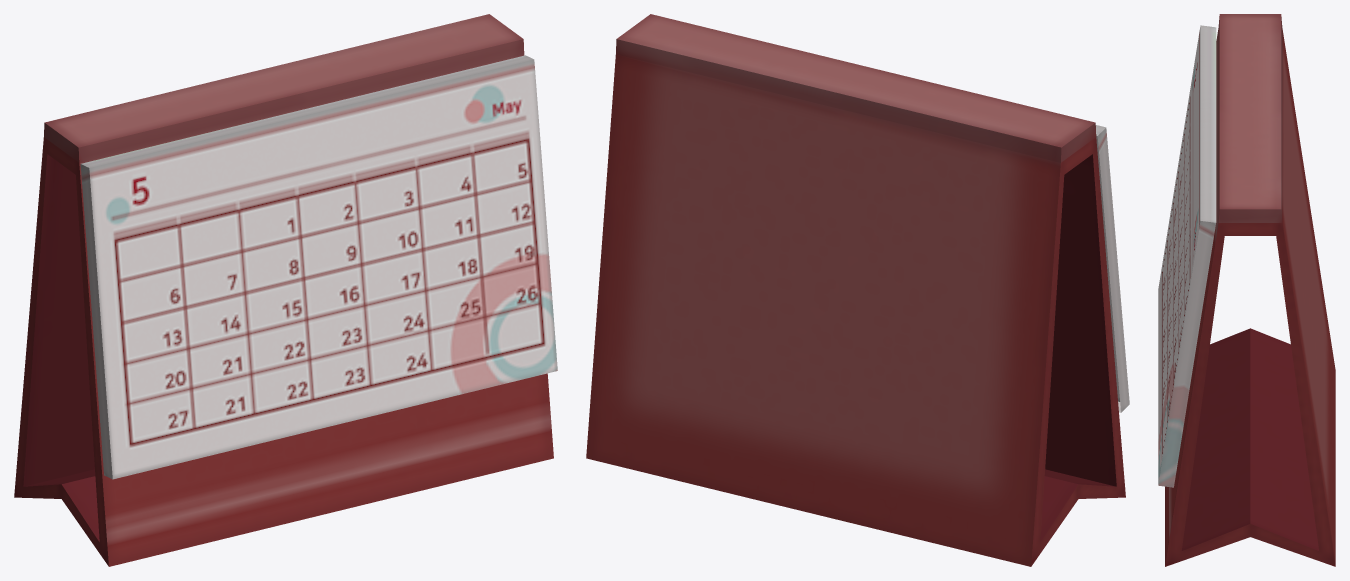
The model's file is NetCafe_Calendar.fbx.
The picture shows the model from 3 angles, left to right: view 1: azimuth 30°, elevation 25°; view 2: azimuth 150°, elevation 25°; view 3: azimuth 270°, elevation 25°; orthographic projection. The views are drawn at different scales.
Visible parts, largest first — view 1: Box457; view 2: Box457; view 3: Box457.
Part boxes in pixels (x1,y1,x2,y2): Box457: [14, 14, 557, 566]; Box457: [586, 14, 1129, 566]; Box457: [1158, 14, 1335, 566].
Bounding box in the file's own units: 0.4736 × 0.4039 × 0.1819.
Materials: 1 (1 with a texture image).
